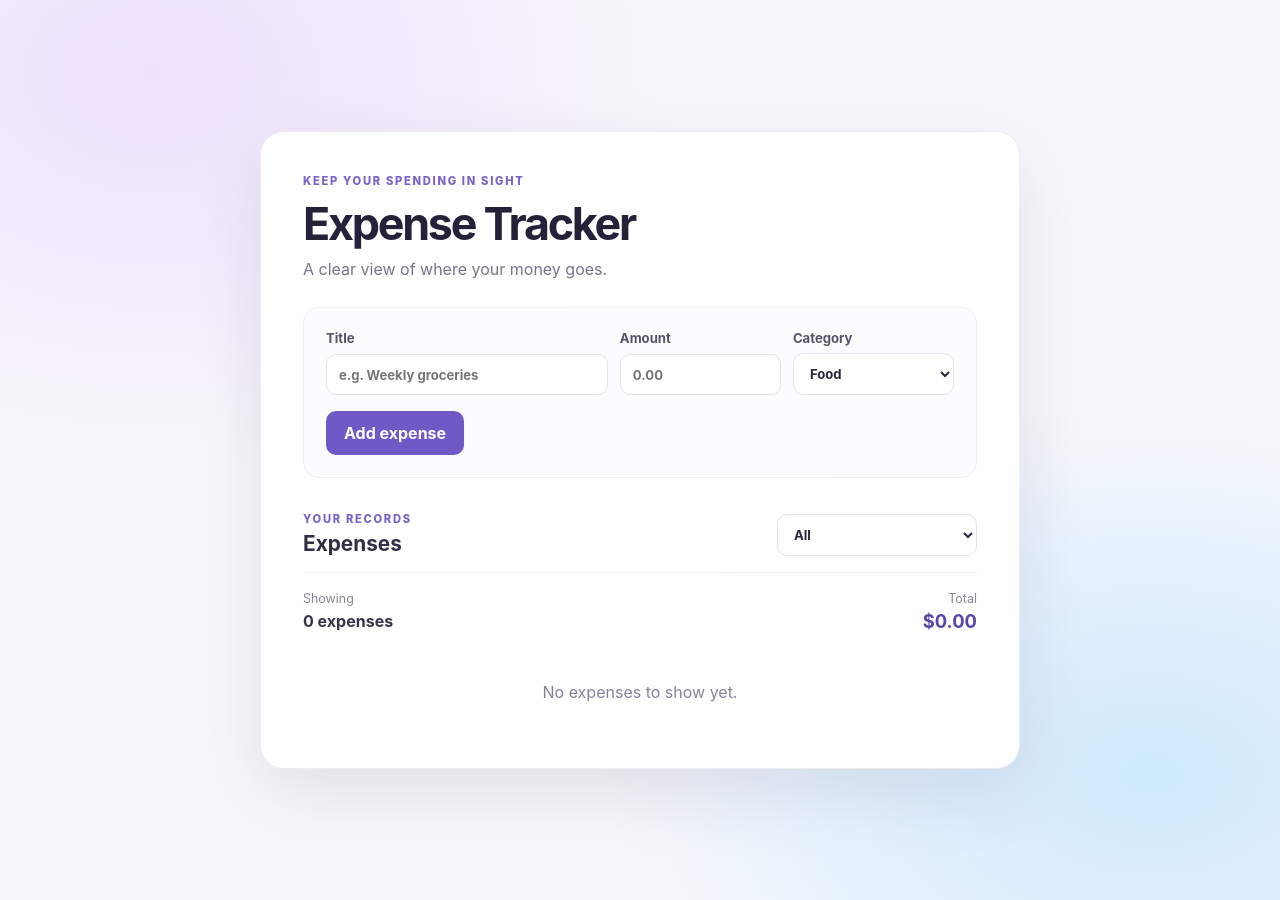
Test case: adds a valid expense and updates the total and count
Type "Lunch" into the field labelled "Title" at (467, 374), box [326, 354, 608, 395]
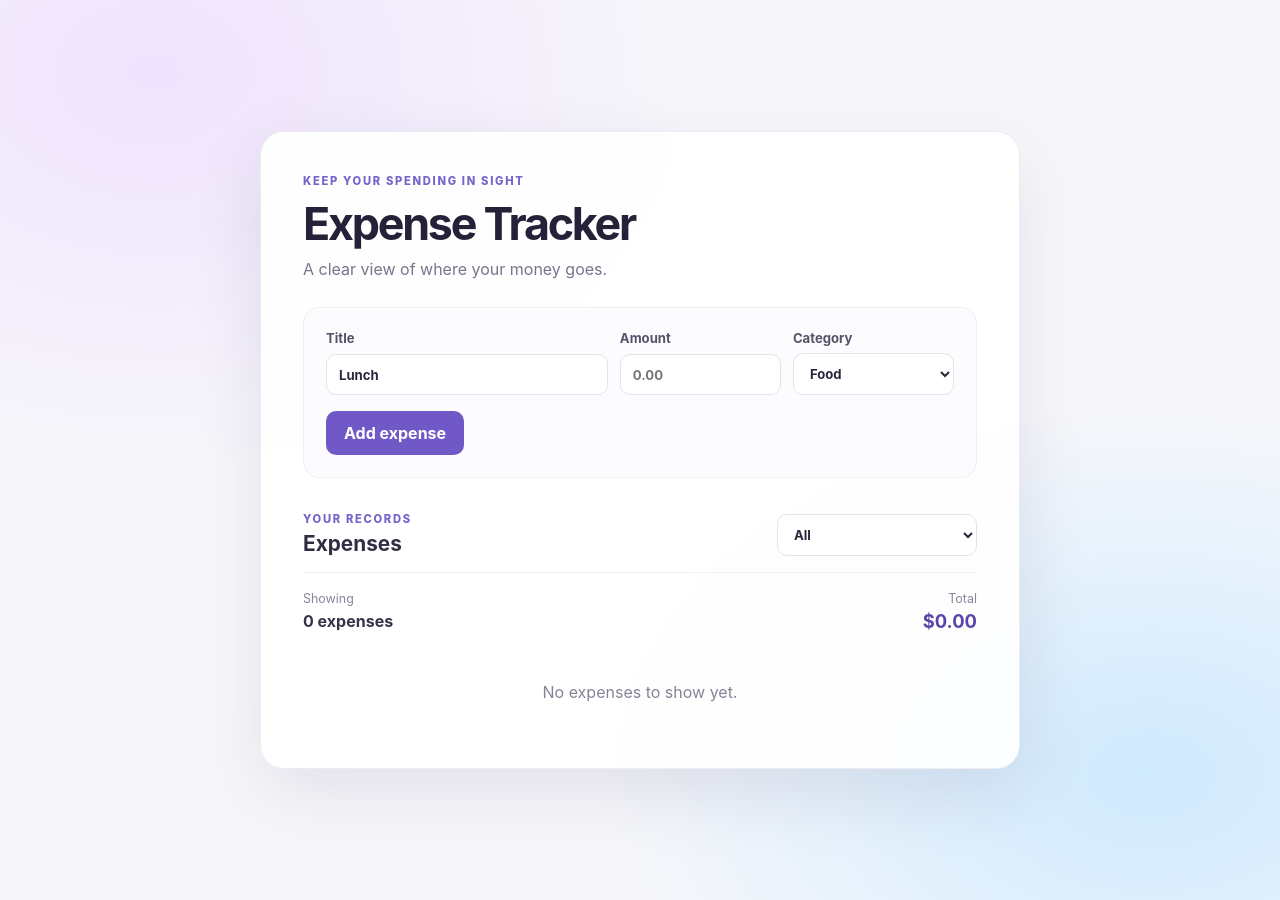
Type "250" into the field labelled "Amount" at (700, 374), box [620, 354, 781, 395]
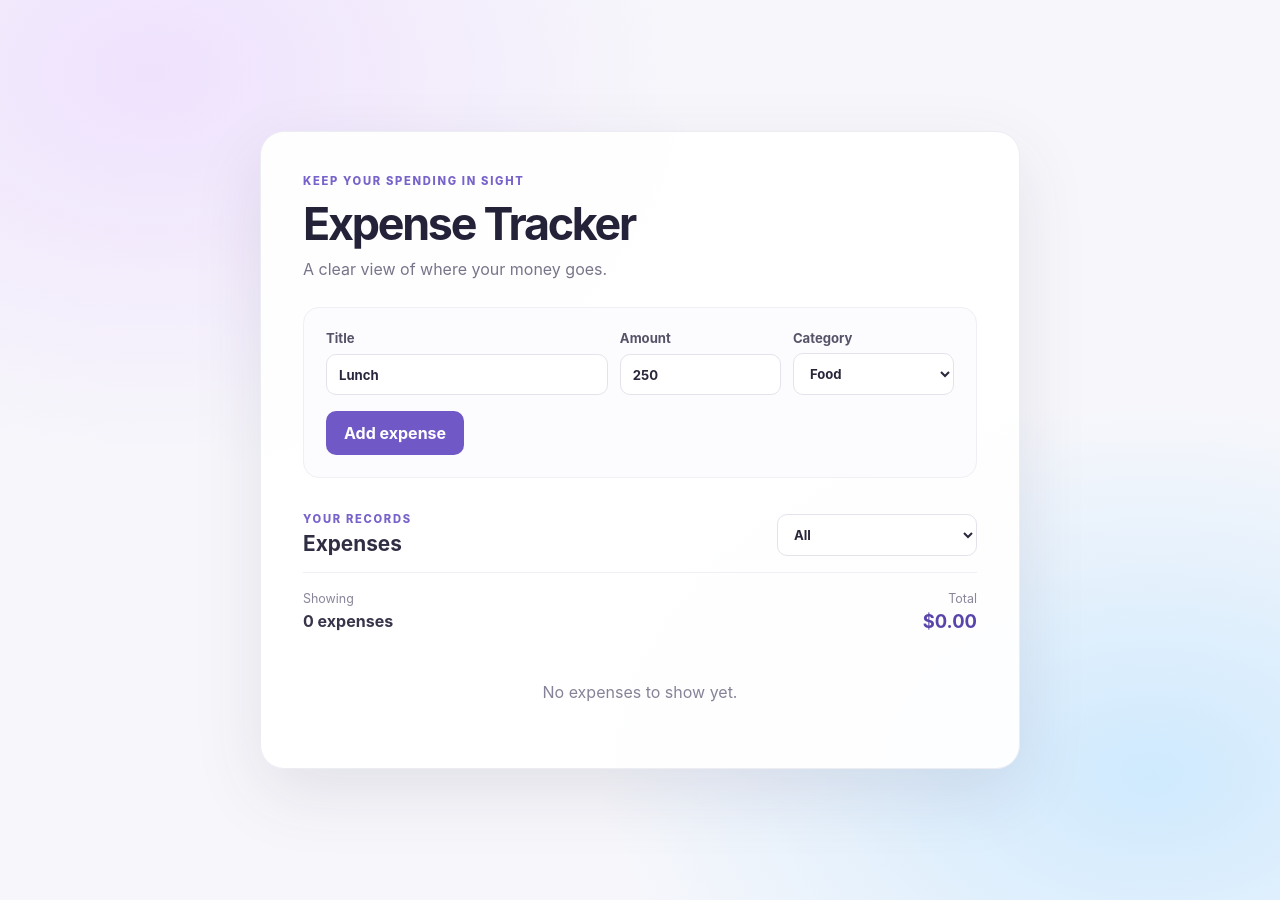
Select "Food" in the dropdown labelled "Category" at (873, 374), box [793, 353, 954, 395]
Click the button "Add expense" at (395, 433), box [326, 411, 464, 455]
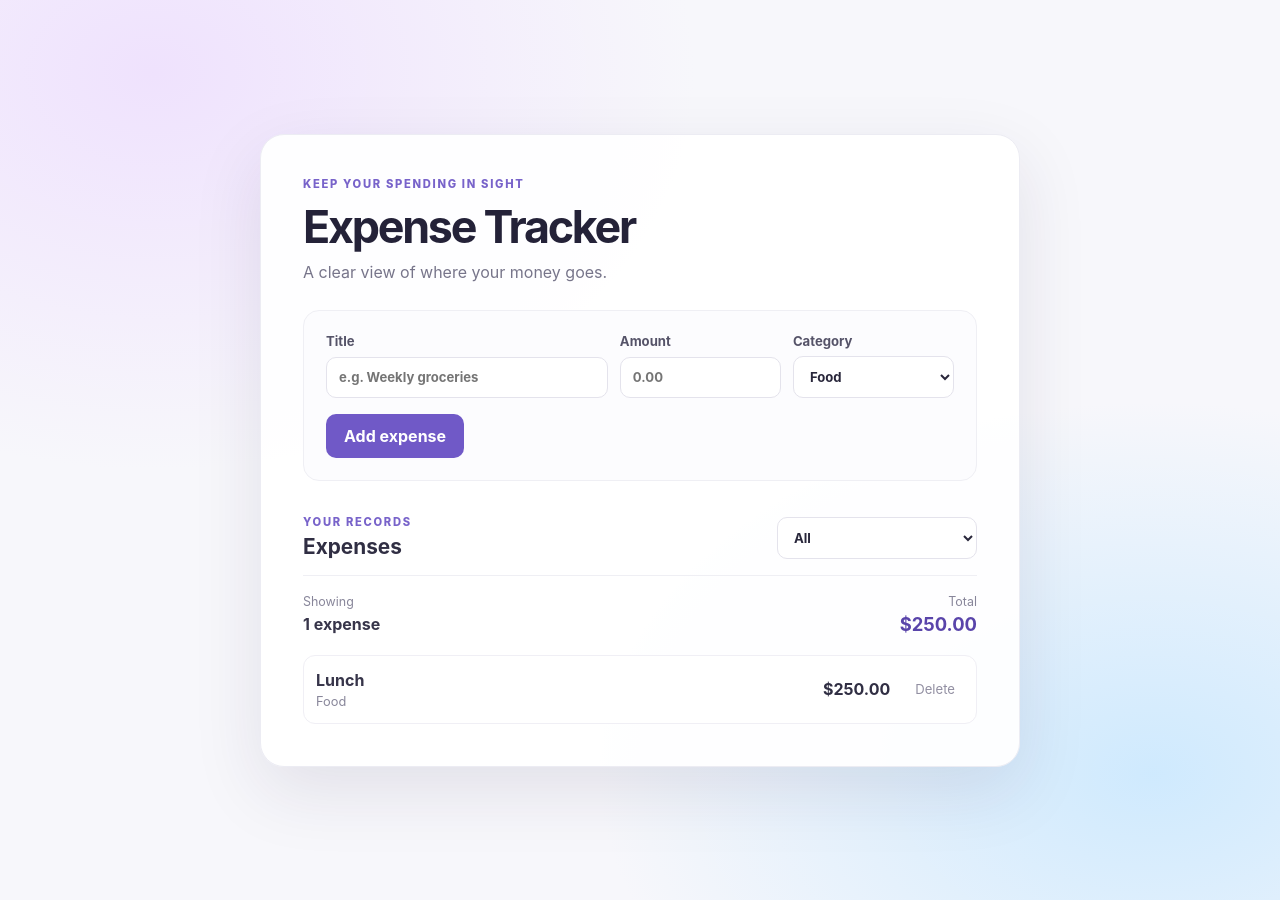
Result: the text "Lunch" is shown at [316, 670, 364, 690]
Result: the message named "Visible total" reads "$250.00" at [900, 612, 977, 634]
Result: the message named "Visible expense count" shows "1" at [303, 614, 310, 634]
